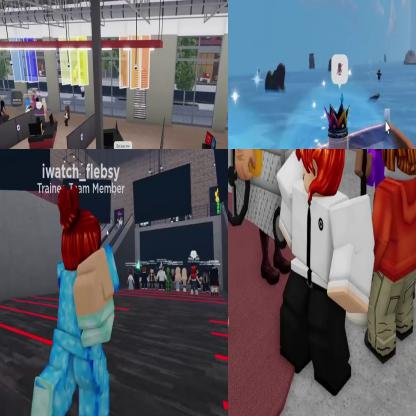Roblox-Avatar: (277, 150, 376, 397), (31, 184, 122, 416), (365, 150, 416, 366), (355, 150, 416, 236), (315, 94, 377, 149), (189, 266, 204, 297), (157, 263, 169, 292), (210, 268, 222, 297), (148, 268, 158, 292), (141, 267, 150, 290), (128, 268, 136, 292), (166, 268, 173, 293), (176, 268, 183, 292), (183, 268, 189, 293), (66, 106, 72, 128)
